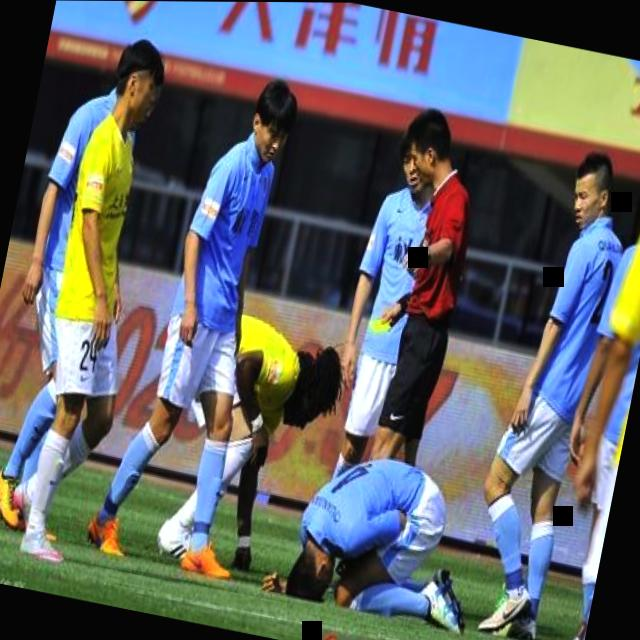Fall-Detected: (261, 436, 492, 640)
